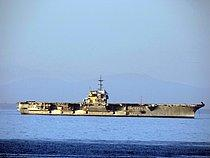MIL_Ship: (15, 78, 205, 118)
